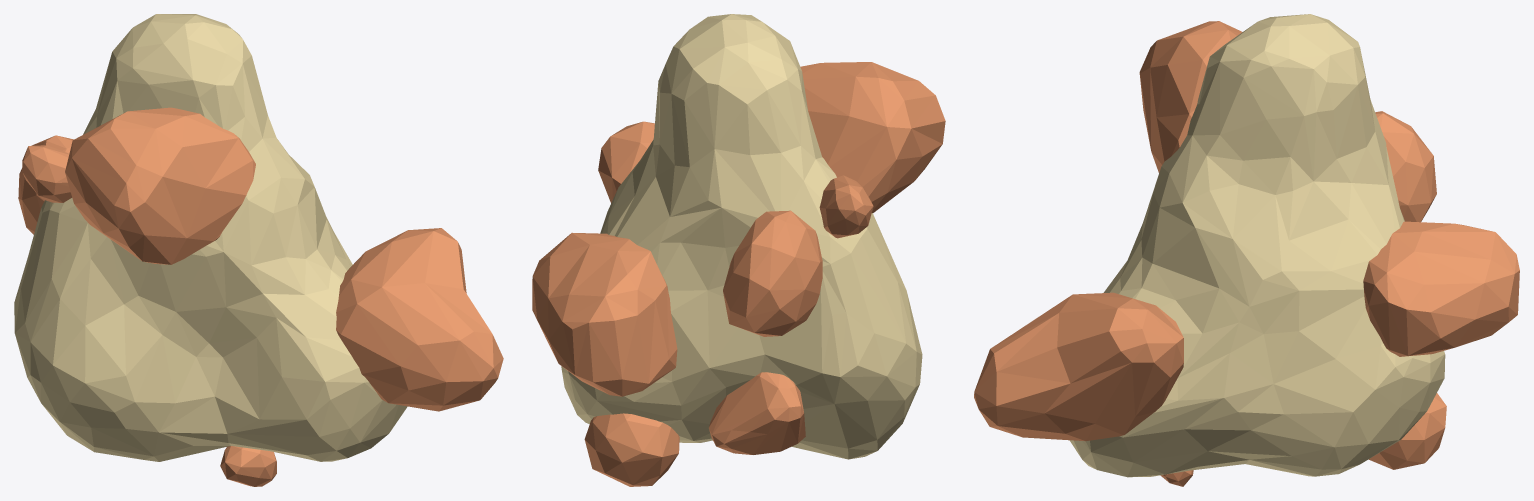
The model's file is StoneOre (17).fbx.
3 views of the same model, side by side, from view 1: azimuth 30°, elevation 25°; view 2: azimuth 150°, elevation 25°; view 3: azimuth 270°, elevation 25° (orthographic). The views are drawn at different scales.
Parts seen in each view (by area): view 1: Asteroid304; view 2: Asteroid304; view 3: Asteroid304.
Part boxes in pixels (left/top/right/bottom): Asteroid304: left=14, top=14, right=503, bottom=486; Asteroid304: left=532, top=14, right=945, bottom=486; Asteroid304: left=974, top=14, right=1519, bottom=486.
Size of the model in its own units: 171 by 197 by 215.
